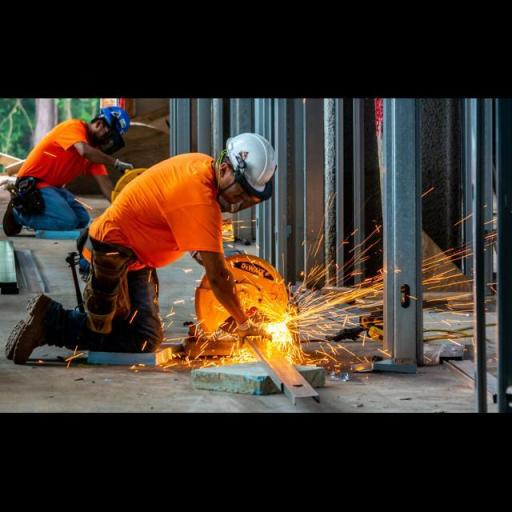Person: (12, 131, 278, 375), (9, 102, 135, 232)
boots: (2, 290, 66, 368), (0, 188, 34, 242)
gloves: (235, 313, 274, 347), (114, 154, 138, 172)
helmet: (224, 129, 282, 202), (90, 104, 136, 138)
